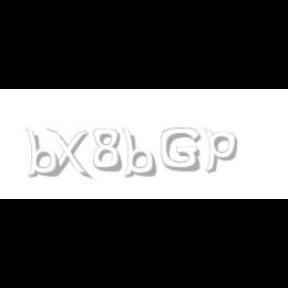8: (92, 128, 122, 172)
G: (161, 128, 201, 172)
X: (46, 128, 90, 180)
b: (25, 128, 63, 178), (122, 128, 160, 178)
p: (204, 128, 242, 174)
